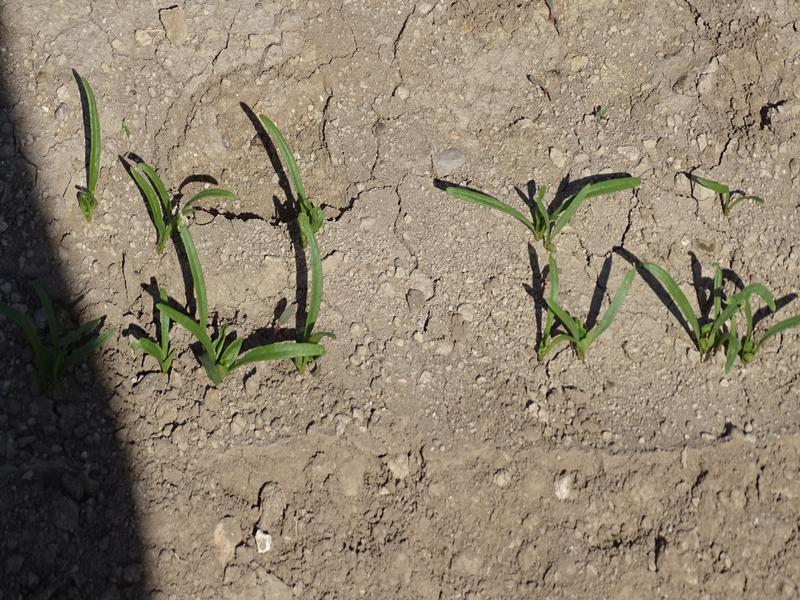Espinaca: (73, 117, 335, 373), (438, 159, 643, 369), (654, 245, 800, 364)
